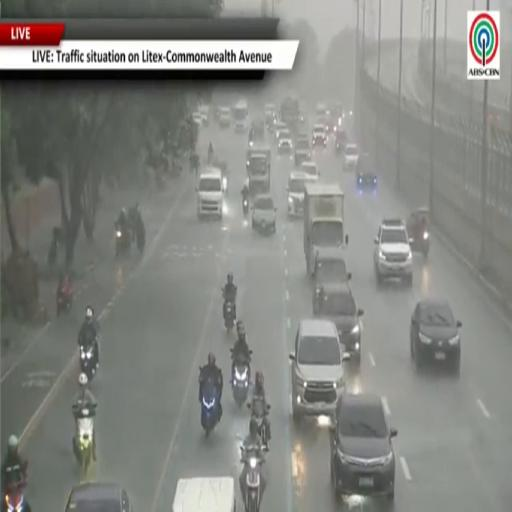bus: (233, 101, 248, 133)
car: (330, 394, 397, 503), (289, 319, 350, 422), (313, 282, 363, 365), (410, 299, 461, 373), (374, 219, 413, 286), (66, 483, 132, 511), (313, 247, 351, 290), (287, 172, 311, 217), (252, 195, 276, 233), (356, 154, 377, 193), (295, 136, 311, 167), (356, 172, 378, 194), (343, 143, 359, 170), (330, 102, 344, 132), (249, 119, 264, 147), (300, 162, 320, 180), (312, 124, 327, 148), (278, 128, 292, 153), (335, 128, 348, 154), (265, 104, 277, 131), (274, 121, 288, 141), (198, 104, 210, 126), (218, 107, 231, 127), (315, 103, 327, 117), (192, 111, 202, 126)
motorcycle: (2, 461, 30, 511), (75, 405, 95, 475), (248, 400, 270, 450), (201, 381, 219, 437), (231, 357, 250, 407), (245, 457, 261, 511), (128, 204, 145, 253), (80, 343, 97, 382), (222, 287, 236, 333), (115, 222, 131, 258), (409, 230, 429, 258), (5, 489, 30, 511), (57, 285, 73, 315), (224, 301, 235, 332), (243, 198, 249, 216)
truck: (304, 182, 348, 276), (173, 477, 236, 511), (248, 152, 270, 195), (280, 98, 300, 132), (246, 146, 271, 172)
